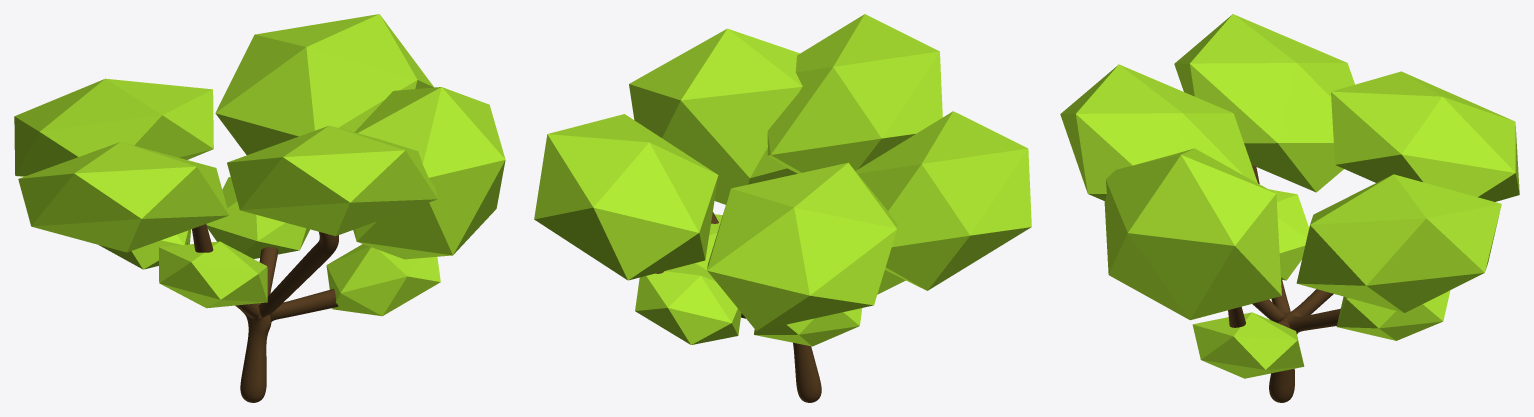
File: Arbusto.fbx
3 views of the same model, side by side, from view 1: azimuth 30°, elevation 25°; view 2: azimuth 150°, elevation 25°; view 3: azimuth 270°, elevation 25° (orthographic). The views are drawn at different scales.
Parts seen in each view (by area): view 1: Cube.068; view 2: Cube.068; view 3: Cube.068.
Boxes of the visible parts, x1,y1,x2,y2 form: Cube.068: (14,14,505,402); Cube.068: (534,14,1031,402); Cube.068: (1060,14,1519,402).
Bounding box in the file's own units: 247 × 167 × 222.
